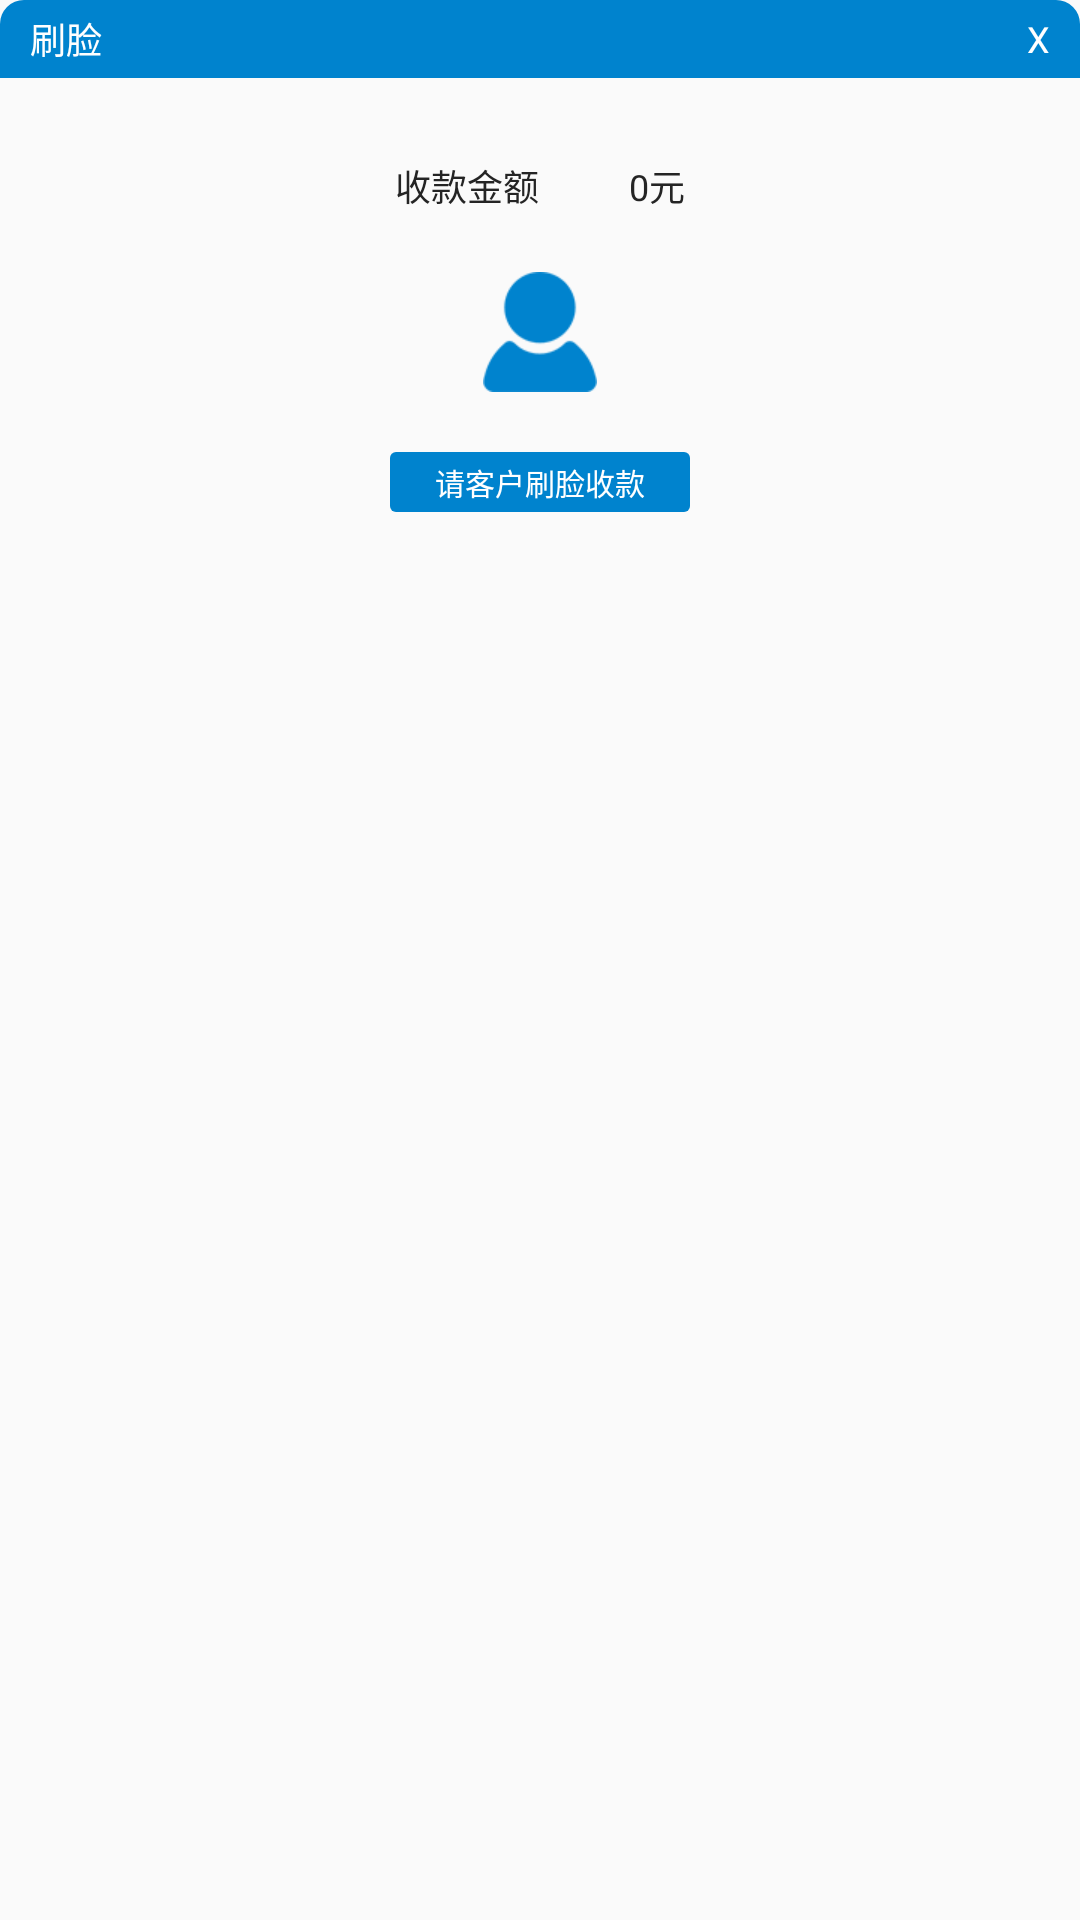

Screen size 1080w x 1920h. Icon name, then its box in pixels as box(x1, y1, x2, y2):
user: box(483, 272, 597, 392)
